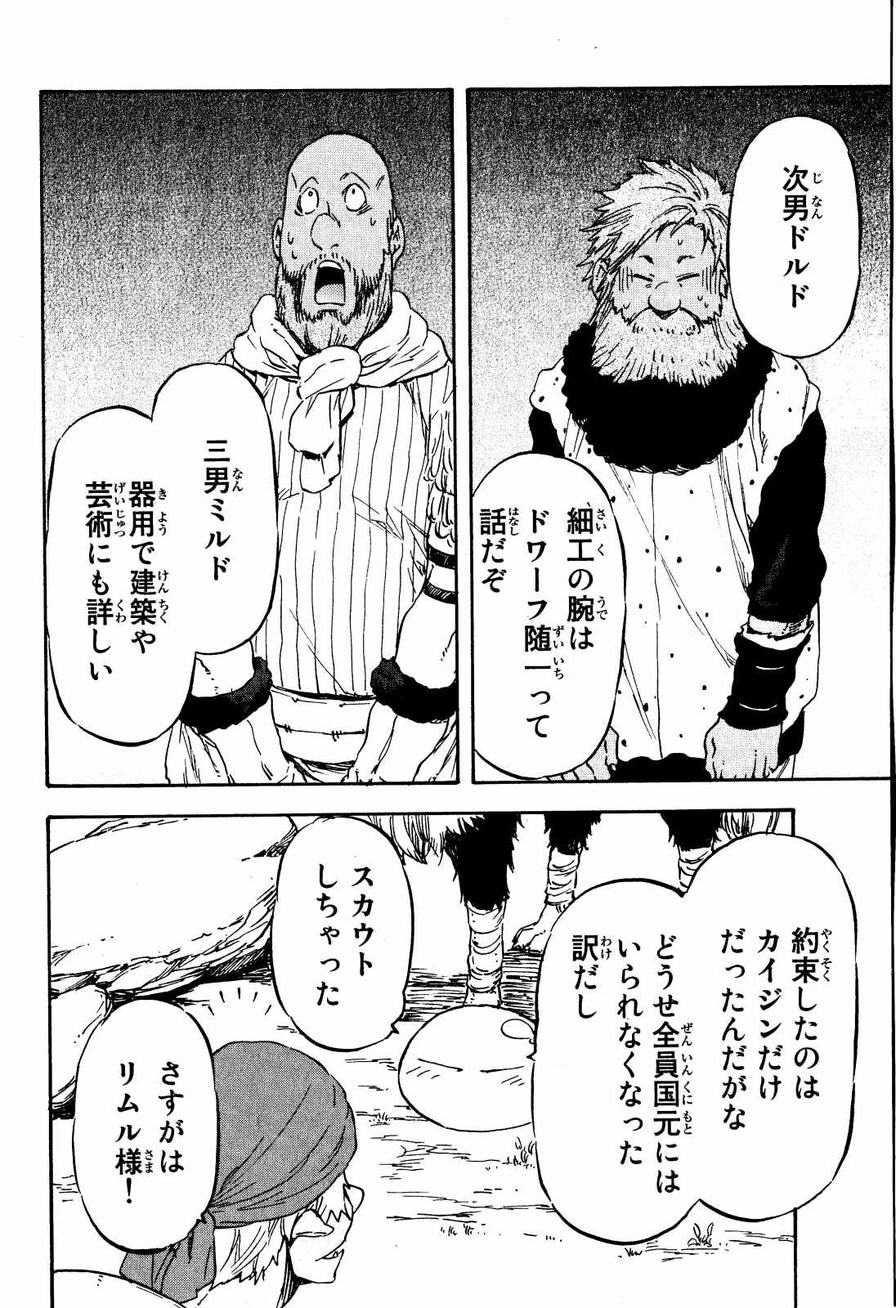bubbles: (522, 828, 863, 1247), (42, 353, 292, 750), (467, 447, 632, 783), (67, 993, 221, 1264), (723, 110, 870, 365), (266, 816, 417, 1061)
